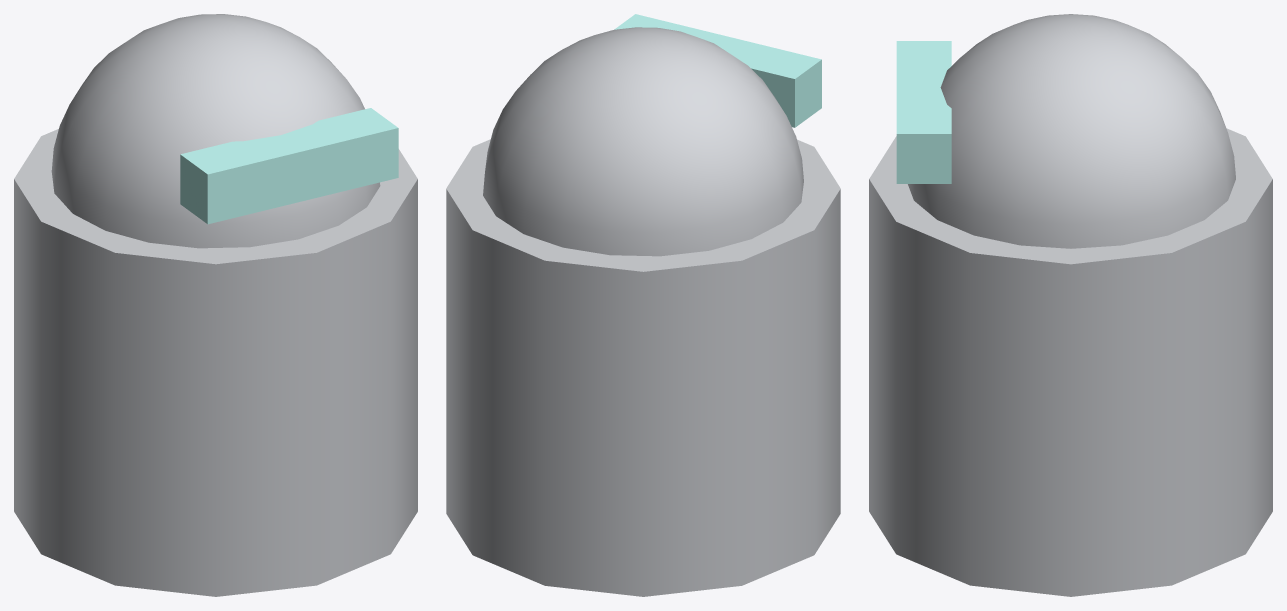
Rendered from ic_item_robot.glb.
3 views of the same model, side by side, from view 1: azimuth 30°, elevation 25°; view 2: azimuth 150°, elevation 25°; view 3: azimuth 270°, elevation 25° (orthographic). The views are drawn at different scales.
Parts seen in each view (by area): view 1: ic_item_robot; view 2: ic_item_robot; view 3: ic_item_robot.
Part boxes in pixels (left/top/right/bottom): ic_item_robot: left=14, top=14, right=417, bottom=596; ic_item_robot: left=446, top=14, right=840, bottom=596; ic_item_robot: left=869, top=14, right=1272, bottom=596.
Bounding box in the file's own units: 0.22 × 0.29 × 0.22.
